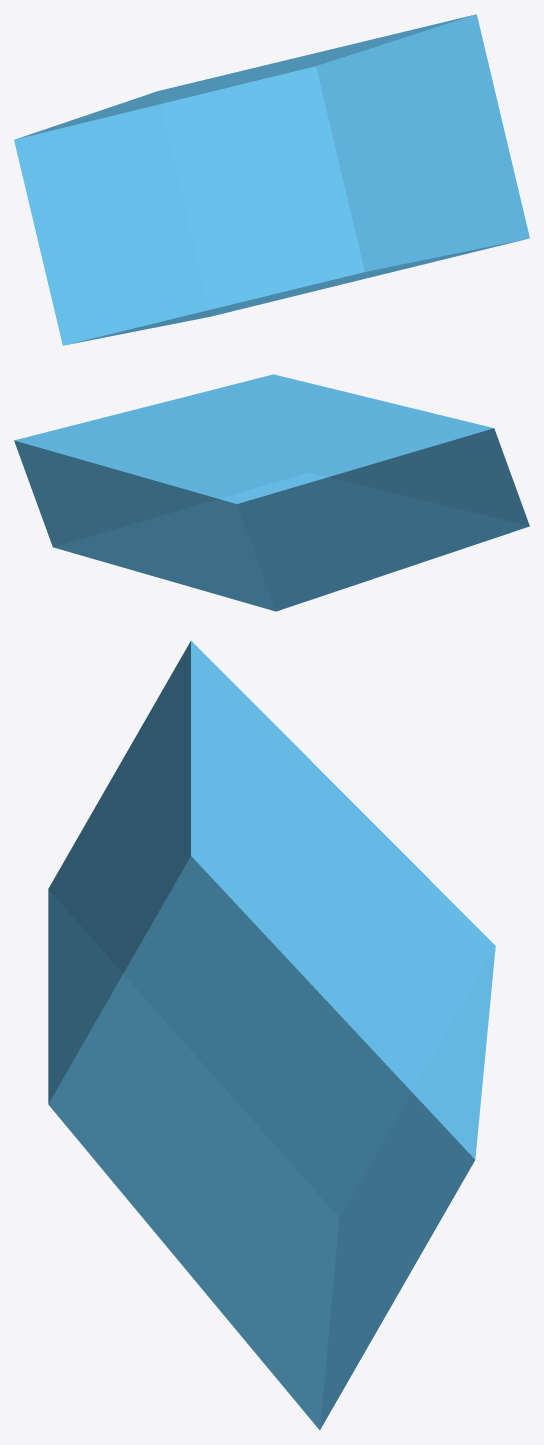
File: Event_420094457_HBrechit_31.fbx
3 renders of one model, top to bottom at view 1: azimuth 30°, elevation 25°; view 2: azimuth 150°, elevation 25°; view 3: azimuth 270°, elevation 25°, orthographic. The views are drawn at different scales.
Parts seen in each view (by area): view 1: Model; view 2: Model; view 3: Model.
Part boxes in pixels (box(x1,y1,x2,y2)): Model: box(14, 14, 529, 345); Model: box(14, 374, 529, 611); Model: box(48, 640, 495, 1430).
Bounding box in the file's own units: 1.23 × 0.5746 × 0.5811.
